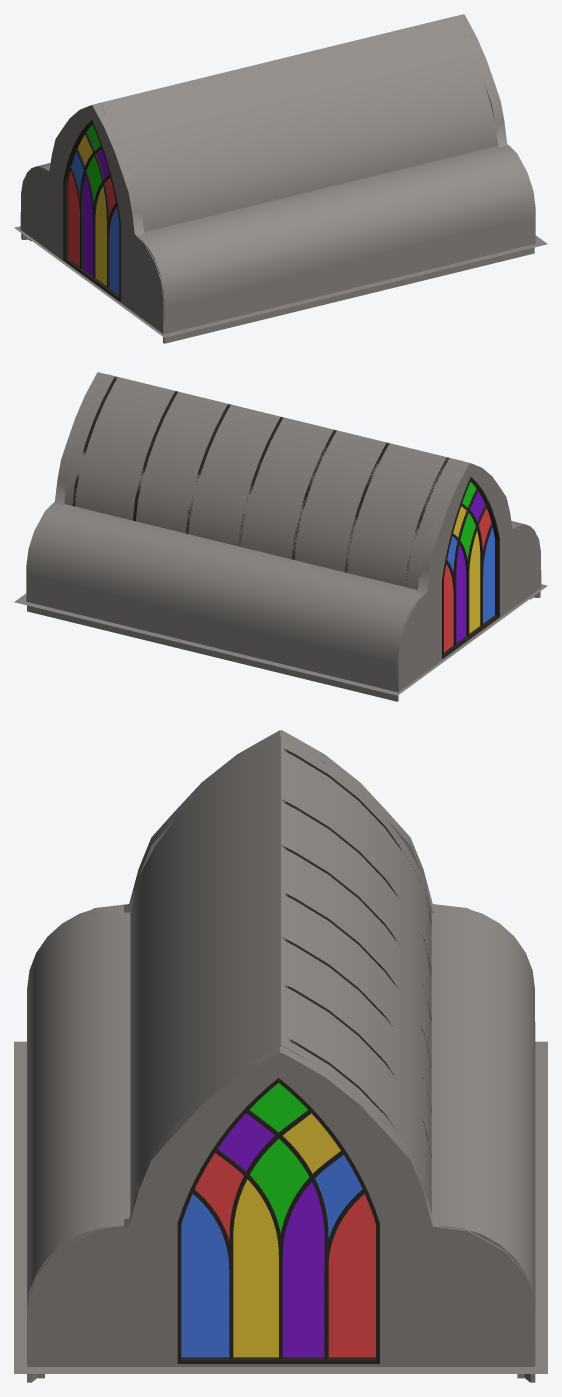
Rendered from Cathedral.fbx.
The picture shows the model from 3 angles, top to bottom: view 1: azimuth 30°, elevation 25°; view 2: azimuth 150°, elevation 25°; view 3: azimuth 270°, elevation 25°; orthographic projection. The views are drawn at different scales.
Parts seen in each view (by area): view 1: Cathedral; view 2: Cathedral; view 3: Cathedral.
Part boxes in pixels (x1,y1,x2,y2): Cathedral: (14, 14, 547, 343); Cathedral: (14, 372, 547, 701); Cathedral: (14, 730, 547, 1382).
Bounding box in the file's own units: 413 × 192 × 280.
